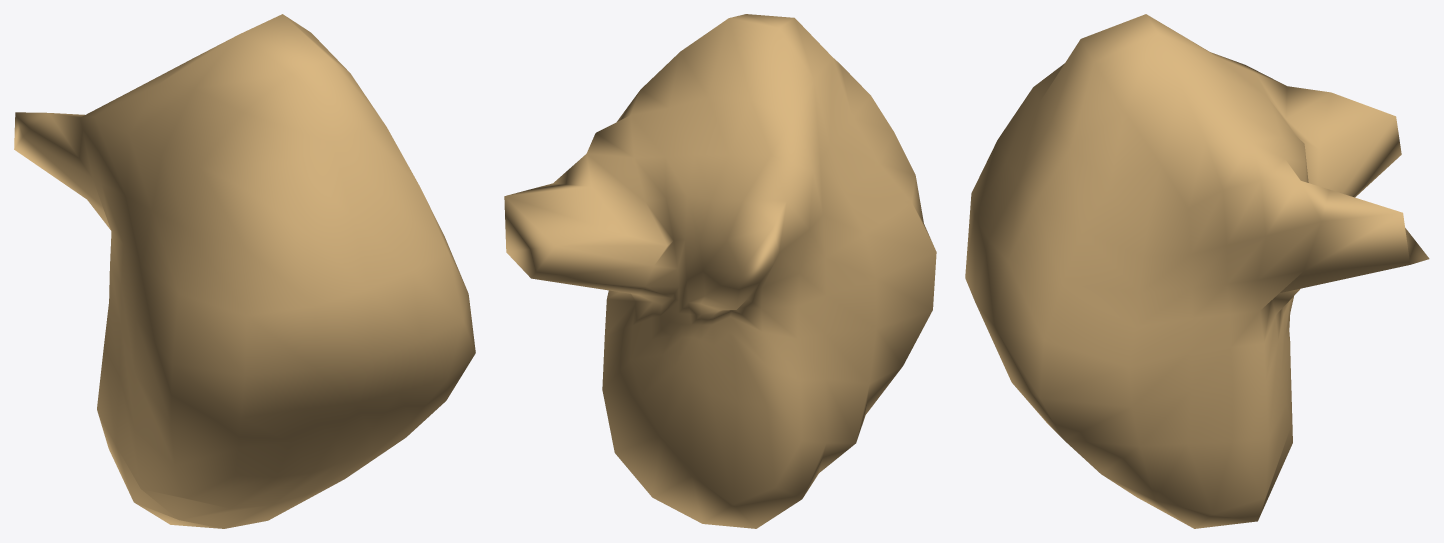
Rendered from rostrum_lower.obj.
3 renders of one model, left to right at view 1: azimuth 30°, elevation 25°; view 2: azimuth 150°, elevation 25°; view 3: azimuth 270°, elevation 25°, orthographic. The views are drawn at different scales.
Bounding box in the file's own units: 0.0268 × 0.0446 × 0.0381.
